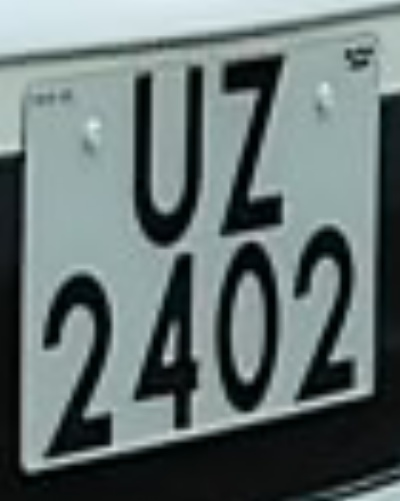0: (205, 237, 283, 426)
2: (36, 267, 123, 465), (282, 221, 365, 412)
4: (123, 252, 205, 443)
U: (123, 59, 210, 256)
Z: (213, 50, 294, 246)
